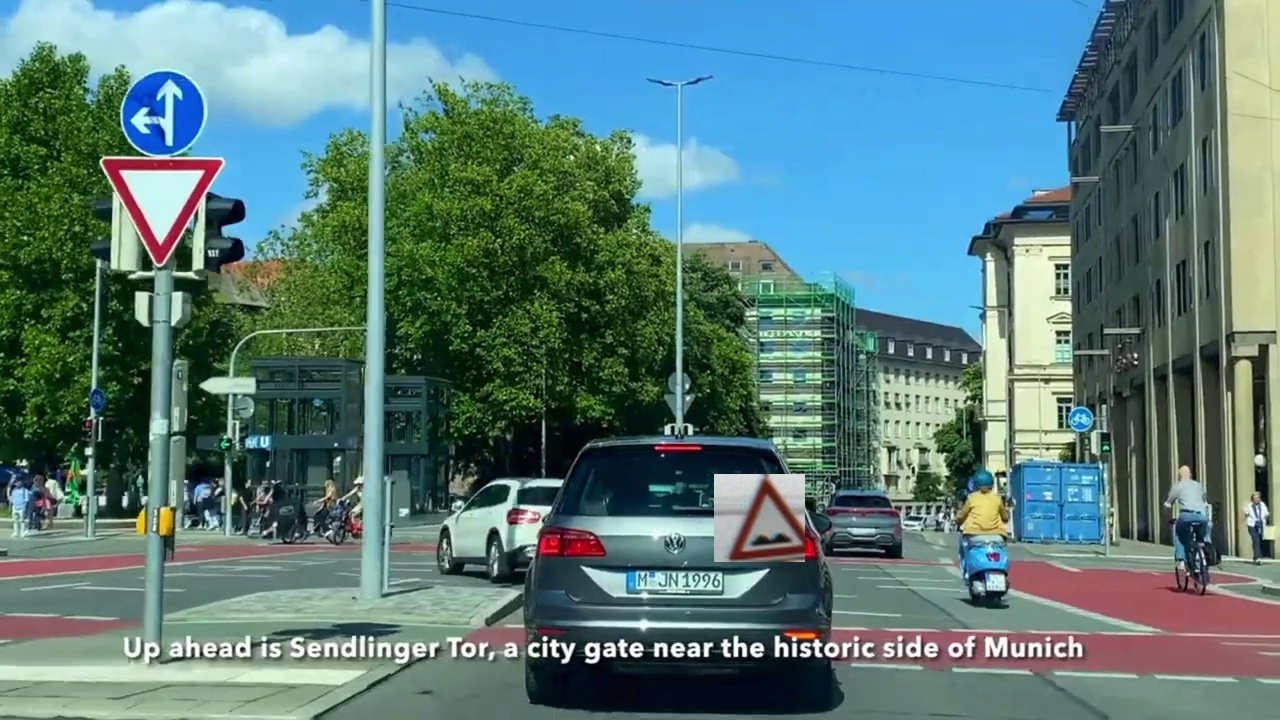Bumpy road: (714, 474, 805, 562)
